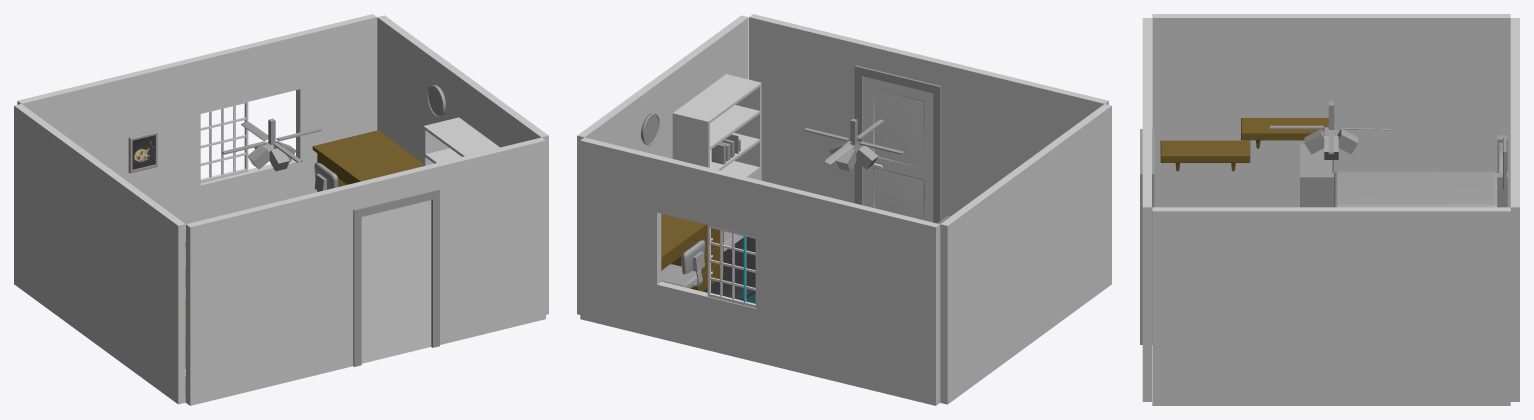
File: map_loom04.fbx
3 renders of one model, left to right at view 1: azimuth 30°, elevation 25°; view 2: azimuth 150°, elevation 25°; view 3: azimuth 270°, elevation 25°, orthographic. The views are drawn at different scales.
Visible parts, largest first — view 1: wall5, wall1, wall2, wall3, door, desk, polySurface81, polySurface103, window, photo, chair; view 2: wall1, wall5, wall2, door, wall3, polySurface81, desk, polySurface103, window, floor, chair; view 3: wall3, wall2, bed, wall5, wall1, wall_rack_1, polySurface103, wall_rack_2.
Part boxes in pixels (bbox=[...]): wall5: bbox=[186, 137, 545, 405]; wall1: bbox=[17, 14, 377, 241]; wall2: bbox=[14, 104, 185, 404]; wall3: bbox=[377, 15, 548, 314]; door: bbox=[361, 200, 431, 363]; desk: bbox=[312, 130, 423, 191]; polySurface81: bbox=[423, 117, 499, 166]; polySurface103: bbox=[222, 85, 445, 171]; window: bbox=[200, 102, 248, 183]; photo: bbox=[128, 130, 157, 173]; chair: bbox=[314, 162, 338, 191]; wall1: bbox=[580, 137, 940, 405]; wall5: bbox=[749, 14, 1108, 223]; wall2: bbox=[940, 104, 1111, 404]; door: bbox=[863, 76, 933, 222]; wall3: bbox=[577, 15, 748, 314]; polySurface81: bbox=[672, 74, 761, 251]; desk: bbox=[661, 213, 723, 291]; polySurface103: bbox=[641, 113, 903, 171]; window: bbox=[707, 225, 756, 308]; floor: bbox=[703, 236, 755, 303]; chair: bbox=[661, 240, 705, 288]; wall3: bbox=[1152, 207, 1510, 405]; wall2: bbox=[1152, 14, 1510, 207]; bed: bbox=[1300, 135, 1507, 207]; wall5: bbox=[1140, 18, 1154, 401]; wall1: bbox=[1510, 18, 1519, 401]; wall_rack_1: bbox=[1160, 140, 1250, 171]; polySurface103: bbox=[1270, 100, 1391, 159]; wall_rack_2: bbox=[1241, 118, 1328, 148].
Size of the model in its own units: 5.21 by 2.44 by 4.24.
Materials: 6 (1 with a texture image).
